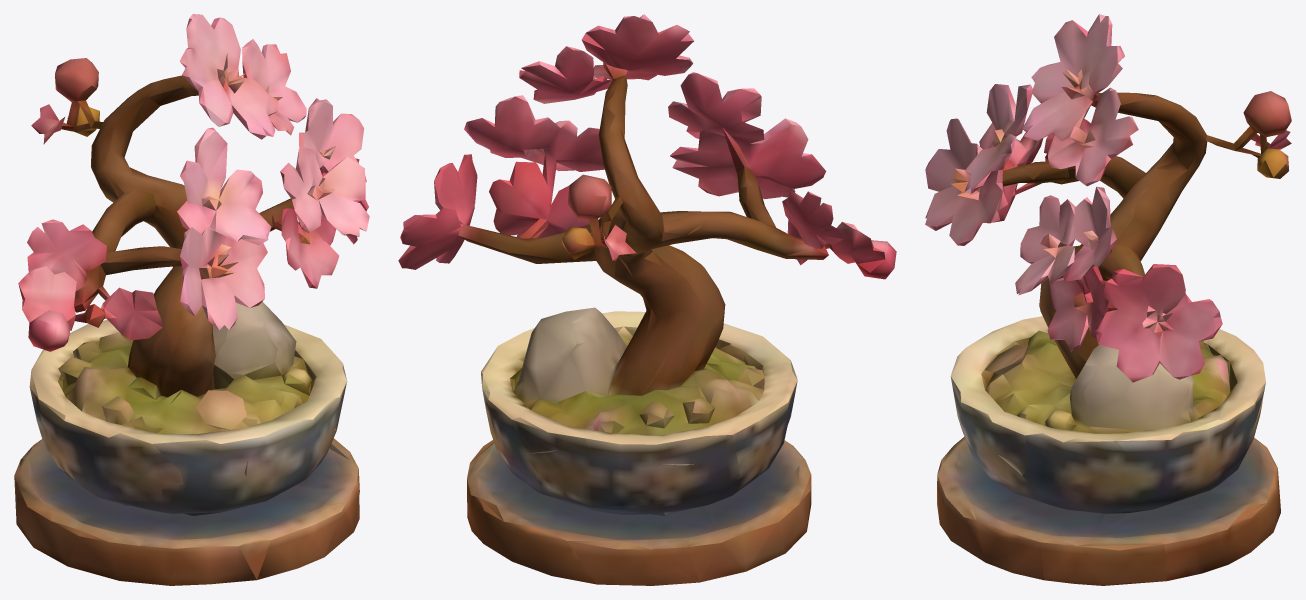
File: deco41.glb
3 views of the same model, side by side, from view 1: azimuth 30°, elevation 25°; view 2: azimuth 150°, elevation 25°; view 3: azimuth 270°, elevation 25° (orthographic).
Bounding box in the file's own units: 0.2158 × 0.2557 × 0.1703.
1 material, 1 textured.
